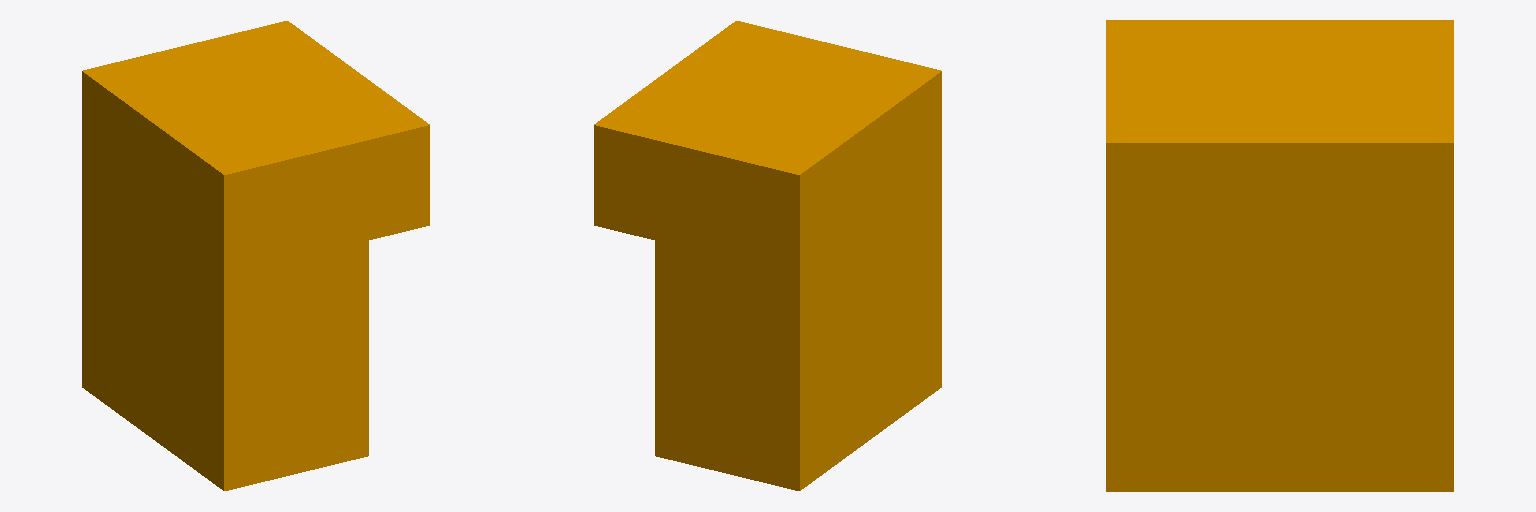
The robot description file, URDF, robot "simple_table":
<?xml version="1.0" ?>
<robot name="simple_table">
  <link name="simple_table">
    <contact>
      <lateral_friction value="1.0"/>
      <rolling_friction value="0.0"/>
      <contact_cfm value="0.0"/>
      <contact_erp value="1.0"/>
    </contact>
    <inertial>
      <origin rpy="0 0 0" xyz="0 0 0"/>
       <mass value="16.3"/>
       <inertia ixx="28.73" ixy="0" ixz="0" iyy="28.73" iyz="0" izz="57.47"/>
    </inertial>
    <visual>
      <geometry>
				<mesh filename="simple_table.dae" scale="1 1 1"/>
      </geometry>
    </visual>
    <collision>
      <geometry>
				<mesh filename="simple_table.stl" scale="1 1 1"/>
      </geometry>
    </collision>
  </link>
</robot>

--- What the picture shows (computed from the rendered views, not written in the file) ---
3 views of the same robot in one strip: view 1: azimuth 30°, elevation 25°; view 2: azimuth 150°, elevation 25°; view 3: azimuth 270°, elevation 25° (orthographic).
Robot: simple_table — 1 links, 0 joints (none); root link simple_table; default pose: all joints at 0.
Links seen in each view (by area): view 1: simple_table; view 2: simple_table; view 3: simple_table.
Link boxes in pixels (x1,y1,x2,y2): simple_table: [82, 21, 429, 490]; simple_table: [594, 21, 941, 490]; simple_table: [1106, 20, 1453, 491].
Size in the robot's own frame: 0.5 by 0.6 by 0.733 metres.
Meshes: 1 distinct files referenced, 1 mesh visuals loaded (1 Collada DAE).